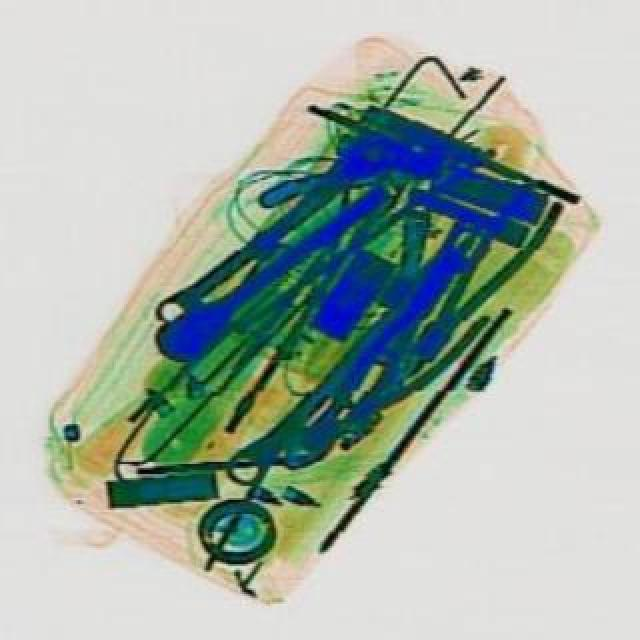scissors: (222, 220, 498, 490), (154, 132, 398, 330)
wrench: (388, 168, 584, 384), (314, 276, 496, 464)
